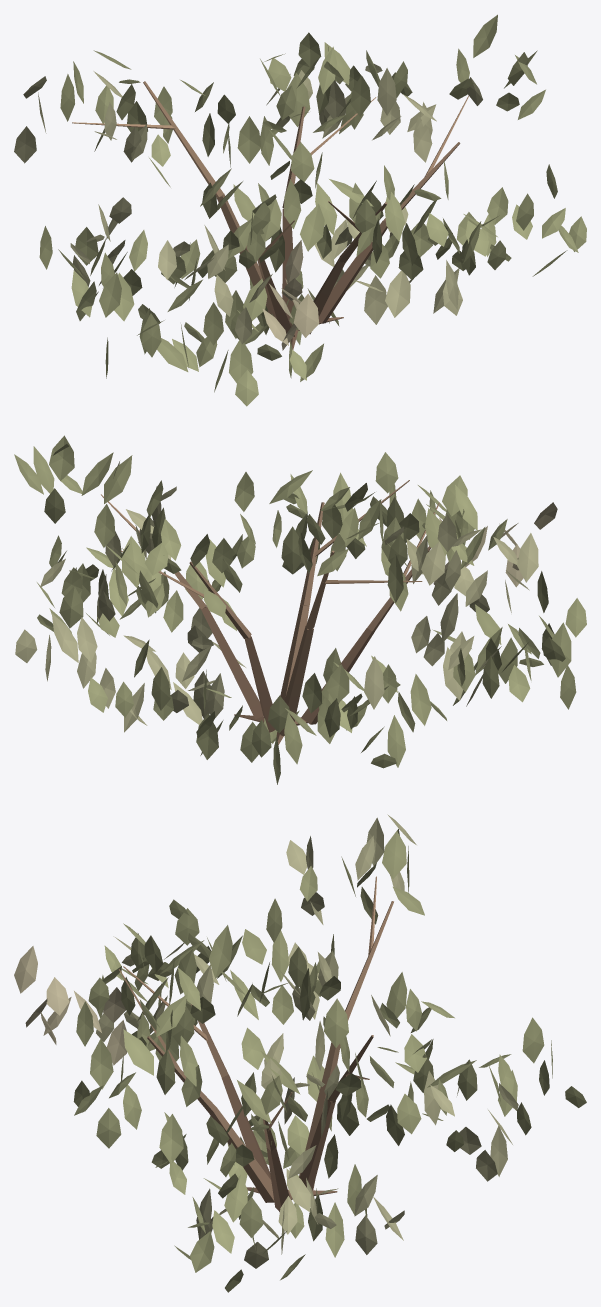
File: bush_3d_01.glb
3 renders of one model, top to bottom at view 1: azimuth 30°, elevation 25°; view 2: azimuth 150°, elevation 25°; view 3: azimuth 270°, elevation 25°, orthographic. The views are drawn at different scales.
Visible parts, largest first — view 1: bush_3d_01_foliage, bush_3d_01_wood; view 2: bush_3d_01_foliage, bush_3d_01_wood; view 3: bush_3d_01_foliage, bush_3d_01_wood.
Boxes of the visible parts, left/top/right/bottom form: bush_3d_01_foliage: left=14, top=14, right=586, bottom=406; bush_3d_01_wood: left=72, top=81, right=468, bottom=349; bush_3d_01_foliage: left=14, top=435, right=586, bottom=784; bush_3d_01_wood: left=101, top=480, right=439, bottom=745; bush_3d_01_foliage: left=14, top=814, right=586, bottom=1292; bush_3d_01_wood: left=119, top=876, right=393, bottom=1211.
Size of the model in its own units: 2.2 by 1.25 by 2.
